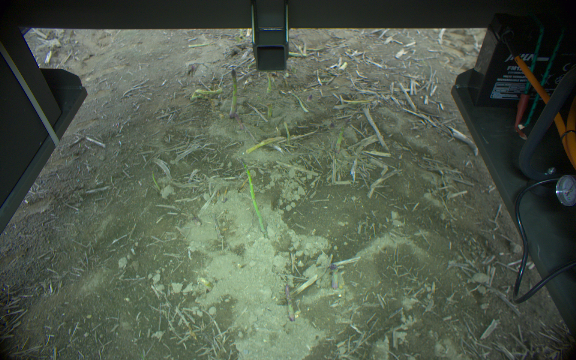aspa: (241, 166, 266, 240), (227, 69, 242, 121), (279, 281, 295, 321), (334, 118, 349, 154), (328, 262, 342, 292)
